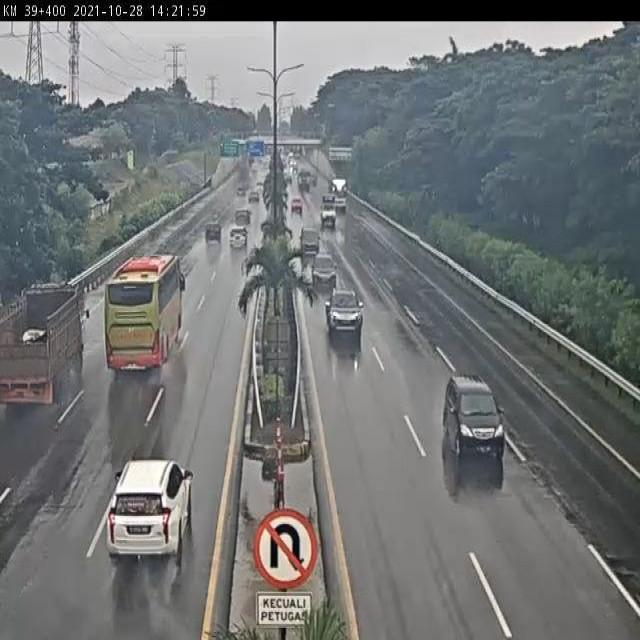big bus: (105, 255, 184, 376)
car: (108, 462, 194, 566), (441, 374, 508, 462), (326, 289, 365, 340), (310, 251, 337, 288), (300, 224, 324, 257), (227, 223, 251, 252), (202, 219, 223, 248)
truck-l-: (0, 287, 86, 404)
